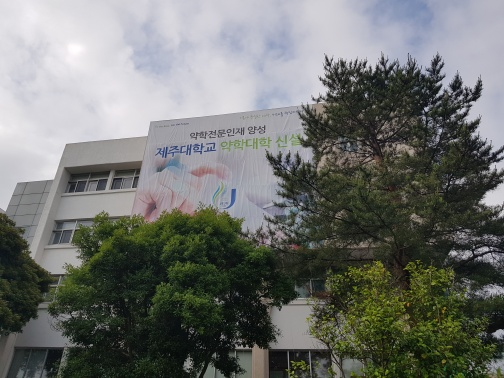Main Building of University: (5, 105, 386, 373)
